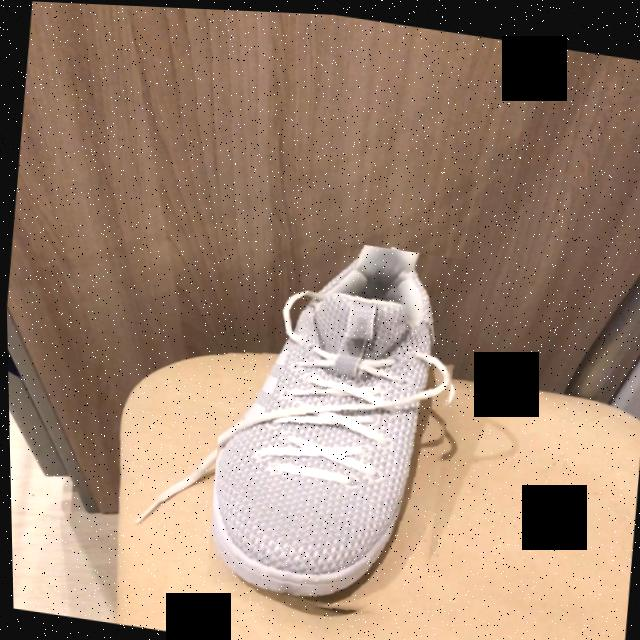shoe: (207, 242, 451, 606)
